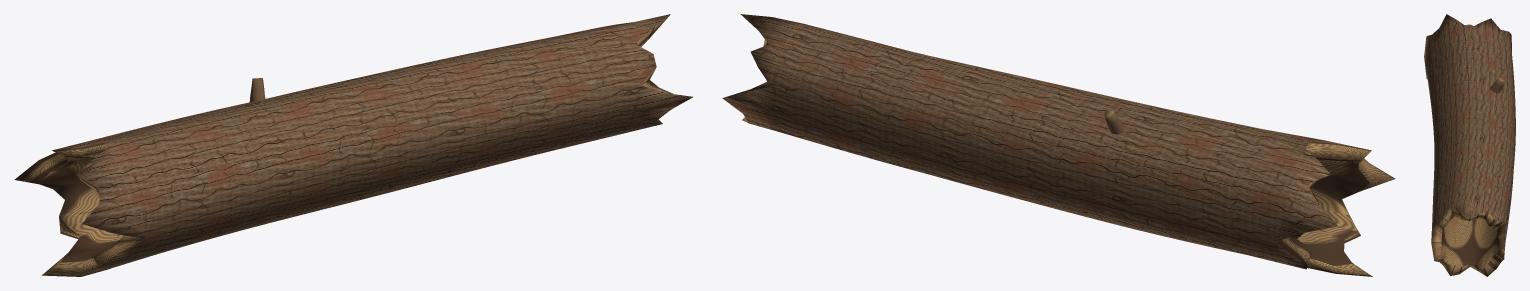
File: fallen_log_hollow.fbx
3 views of the same model, side by side, from view 1: azimuth 30°, elevation 25°; view 2: azimuth 150°, elevation 25°; view 3: azimuth 270°, elevation 25° (orthographic). The views are drawn at different scales.
Visible parts, largest first — view 1: FallenLogHollowMesh; view 2: FallenLogHollowMesh; view 3: FallenLogHollowMesh.
Part boxes in pixels (box(x1,y1,x2,y2)): FallenLogHollowMesh: box(14, 14, 692, 276); FallenLogHollowMesh: box(722, 14, 1395, 276); FallenLogHollowMesh: box(1424, 14, 1515, 276).
Bounding box in the file's own units: 15.75 × 2.91 × 3.01.
